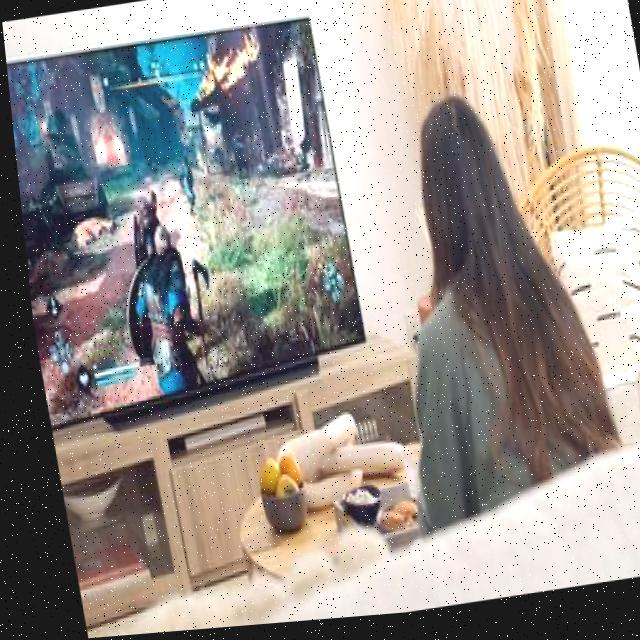tv-person: (1, 0, 617, 581)
